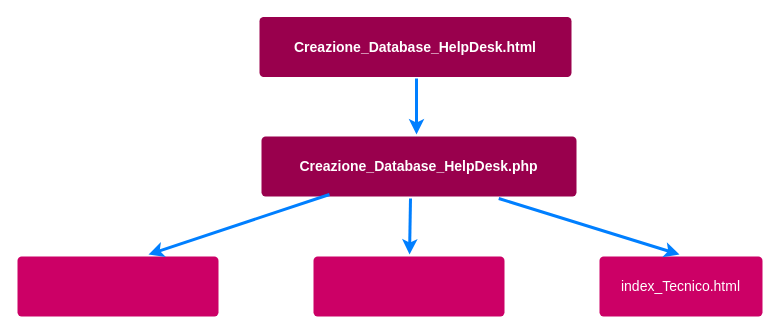
Some shapes in this 779 by 334 pixel diagram are drawn without their labels. The shapes that lost their labels are listed below. From the top down, each one's centre as x and y in pixels, then its label:
At (x=117, y=286): "index_Dirigente.php".
At (x=408, y=286): "index.html".
